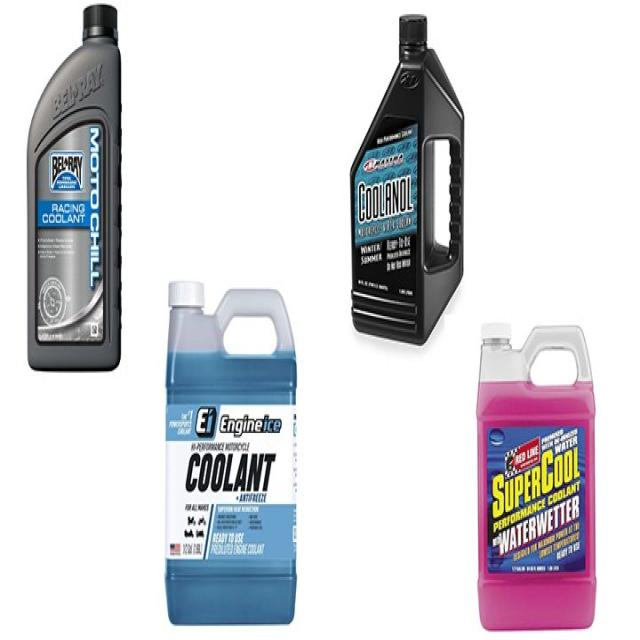coolant: (163, 268, 298, 628), (472, 314, 601, 630)
